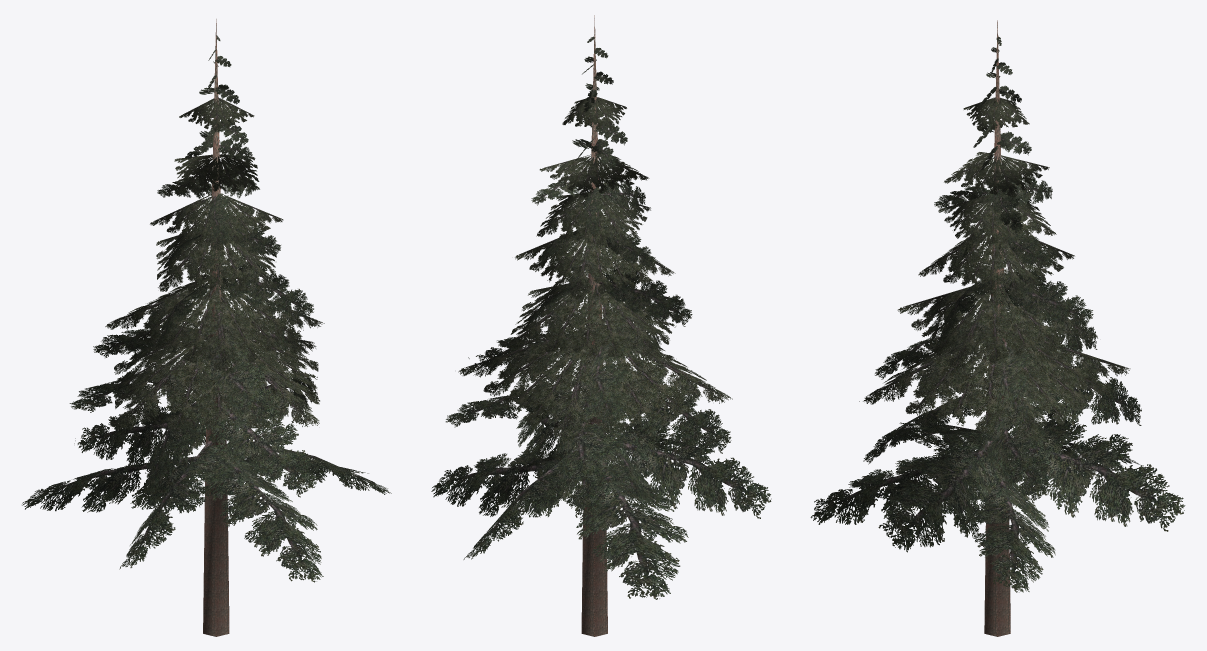
The model's file is conf_mtns_pine_full_l0.fbx.
3 views of the same model, side by side, from view 1: azimuth 30°, elevation 25°; view 2: azimuth 150°, elevation 25°; view 3: azimuth 270°, elevation 25° (orthographic).
Visible parts, largest first — view 1: mesh_node; view 2: mesh_node; view 3: mesh_node.
Boxes of the visible parts, box(x1,y1,x2,y2) form: mesh_node: box(22, 19, 391, 636); mesh_node: box(431, 15, 771, 636); mesh_node: box(810, 20, 1185, 636).
Bounding box in the file's own units: 9.78 × 19.57 × 11.12.
